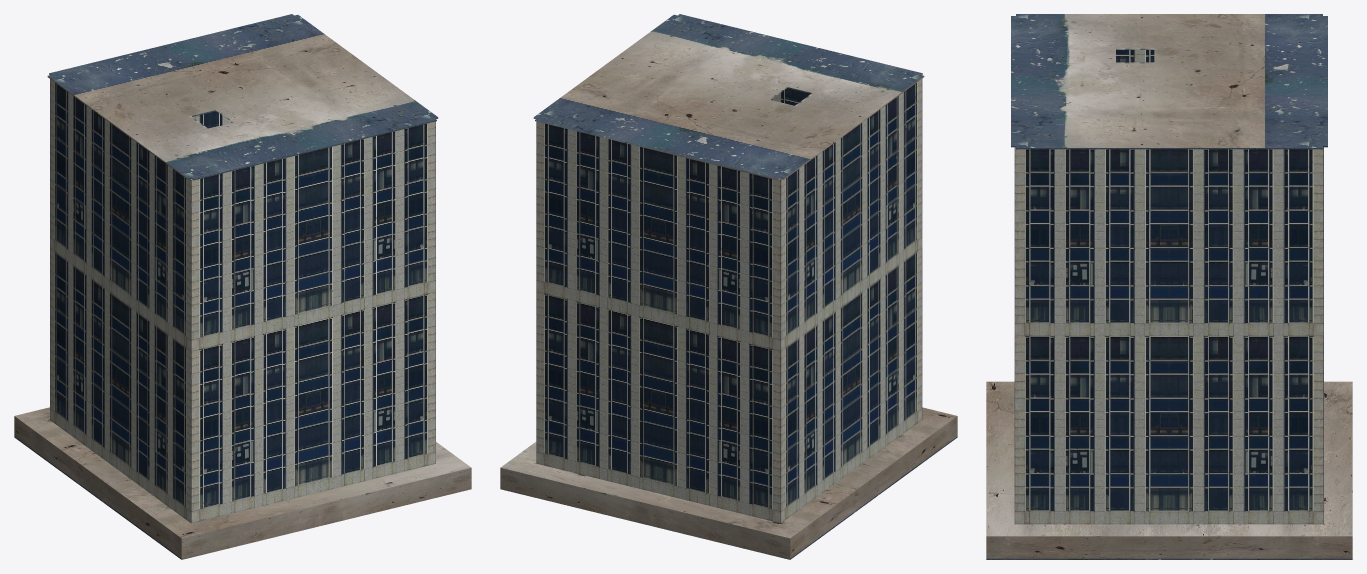
The model's file is BagSS02base_0.fbx.
The picture shows the model from 3 angles, left to right: view 1: azimuth 30°, elevation 25°; view 2: azimuth 150°, elevation 25°; view 3: azimuth 270°, elevation 25°; orthographic projection. The views are drawn at different scales.
Parts seen in each view (by area): view 1: baseBox0, baseA0, baseBase0; view 2: baseBox0, baseA0, baseBase0; view 3: baseBox0, baseA0, baseBase0.
Boxes of the visible parts, x1,y1,x2,y2 form: baseBox0: [50, 79, 435, 523]; baseA0: [47, 14, 438, 180]; baseBase0: [14, 407, 471, 559]; baseBox0: [536, 79, 922, 523]; baseA0: [533, 14, 924, 180]; baseBase0: [500, 407, 957, 559]; baseBox0: [1014, 50, 1323, 524]; baseA0: [1011, 14, 1327, 149]; baseBase0: [986, 381, 1352, 559].
Size of the model in its own units: 55.78 by 67.44 by 55.78.
